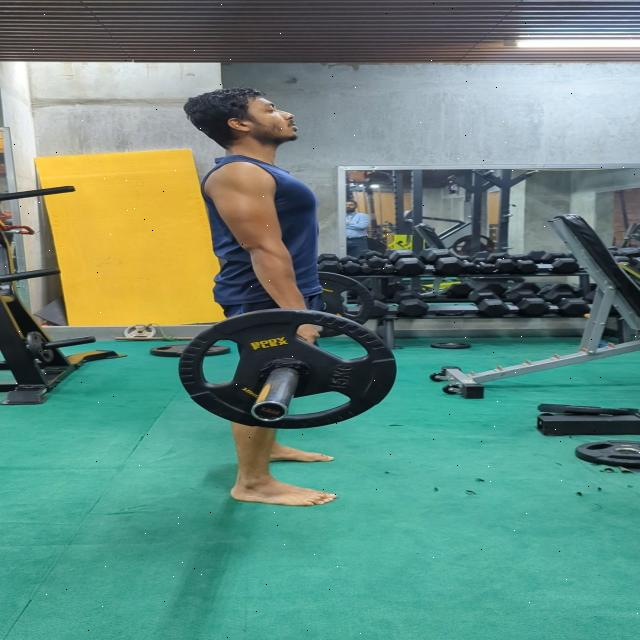Normal_Deadlifts: (175, 84, 347, 508)
